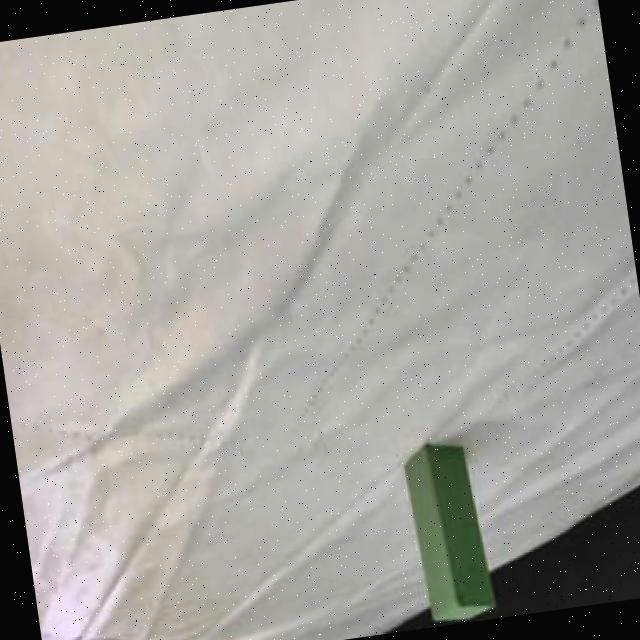greenbox: (404, 440, 494, 624)
